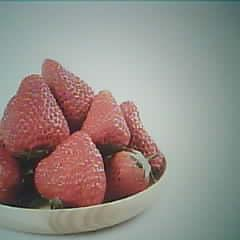straw-ripe: (2, 76, 68, 154), (34, 133, 106, 204), (83, 90, 131, 149)
